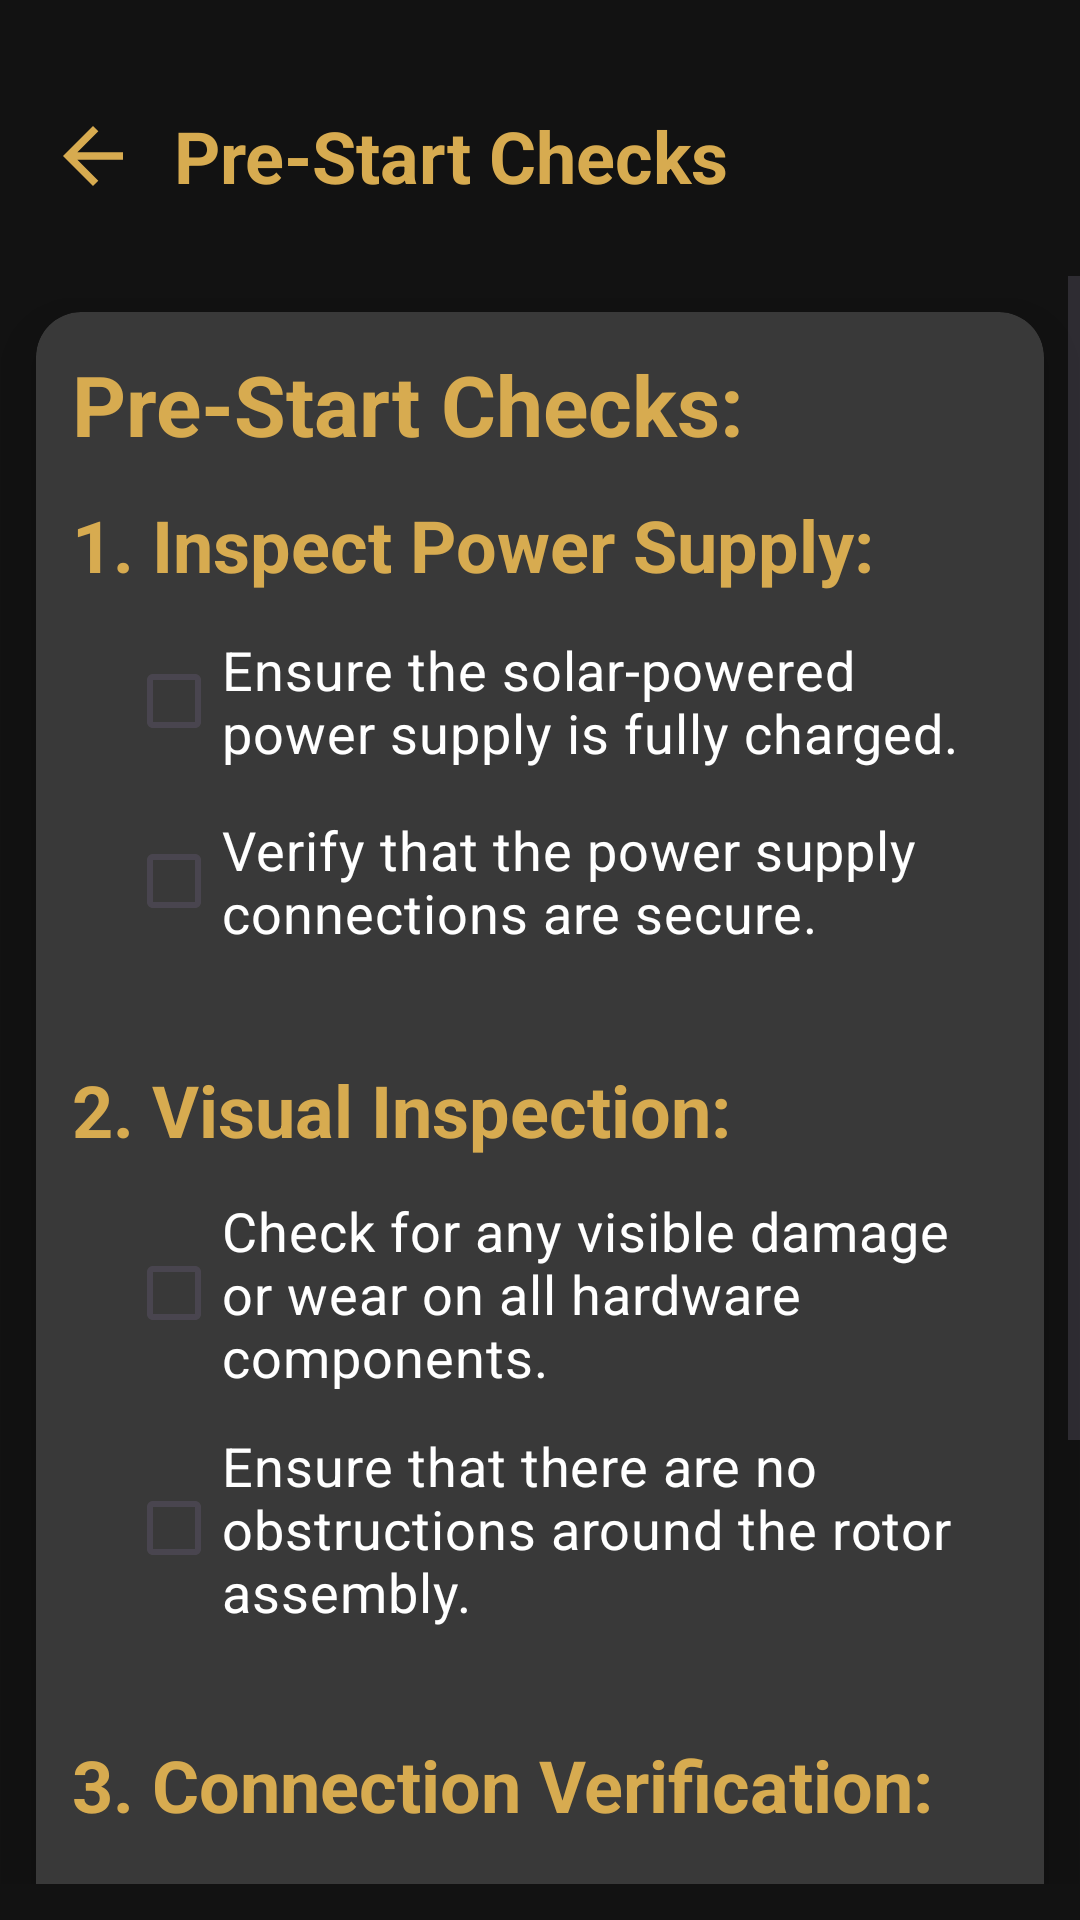

Icons on this 1080×1920 Android screen, each with its box as box(x1, y1, x2, y2):
arrow back: box(63, 126, 123, 186)
